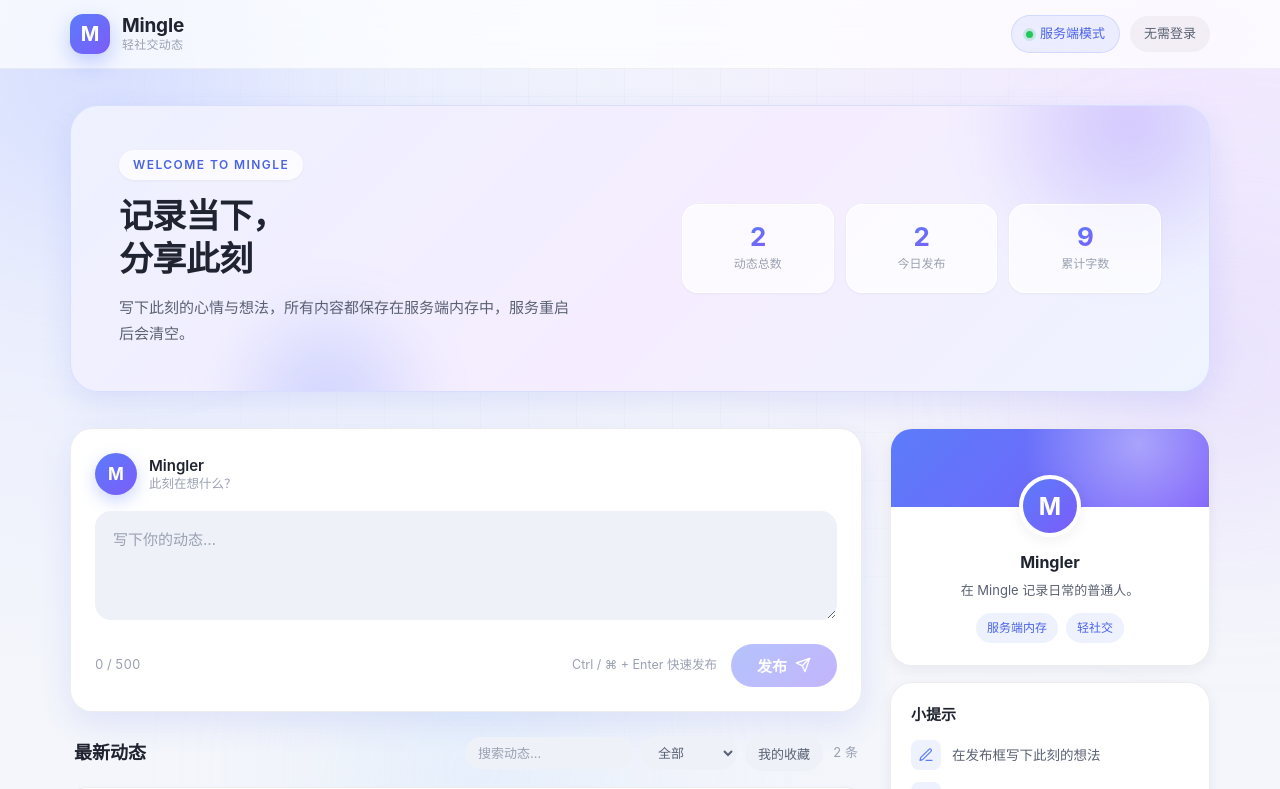
App › 开启「我的收藏」后只显示已收藏的动态
Click the button with class "feed__fav-toggle" at (784,753), box [745, 736, 823, 771]
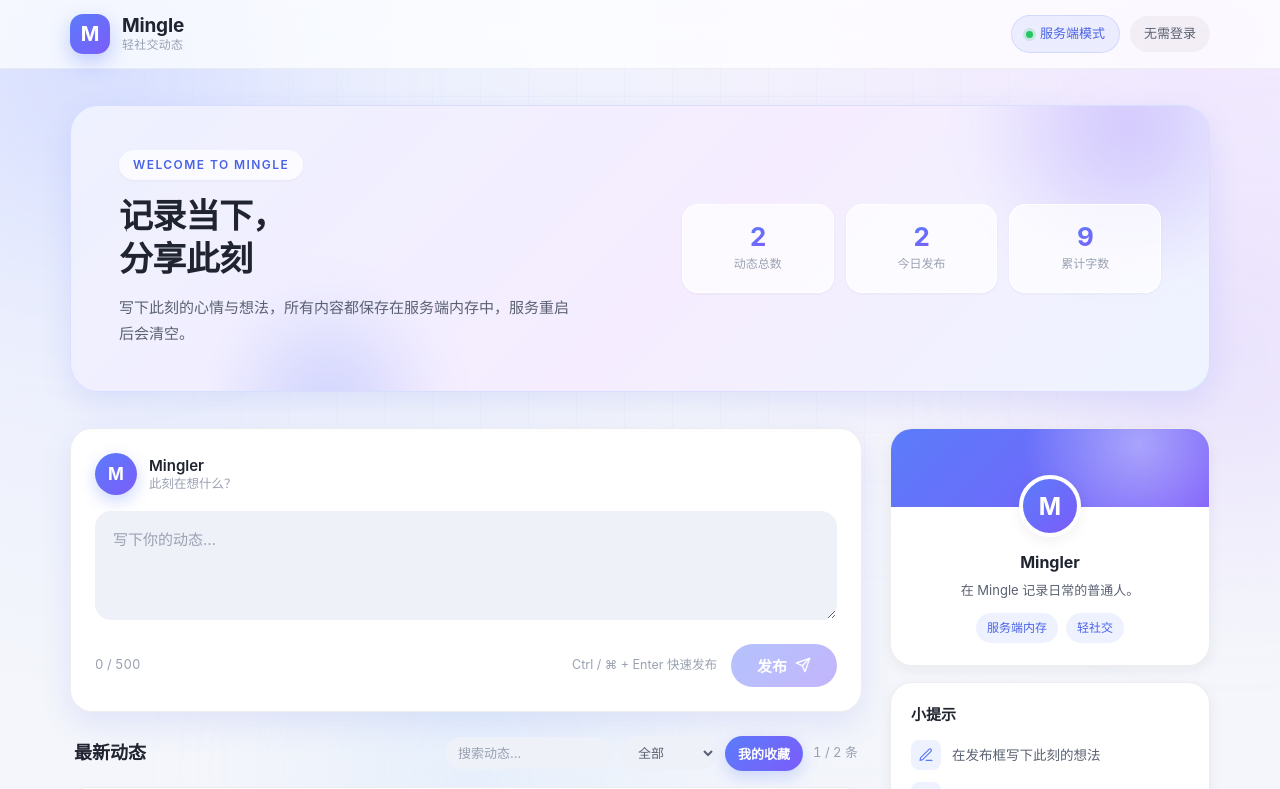
Expected: the text with class "feed__count" reads "1 / 2 条", [813, 744, 858, 760]
